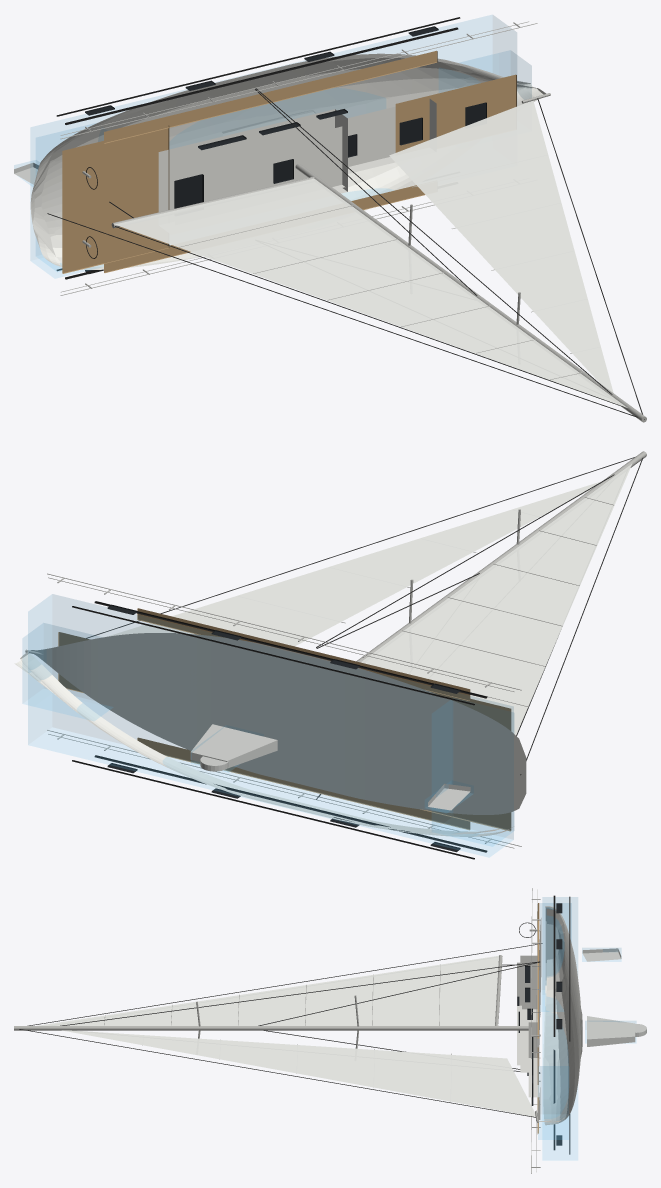
The model's file is Andryu_Yacht_ProductionReadyPrototype_v3.glb.
The picture shows the model from 3 angles, top to bottom: view 1: azimuth 30°, elevation 25°; view 2: azimuth 150°, elevation 25°; view 3: azimuth 270°, elevation 25°; orthographic projection. The views are drawn at different scales.
Visible parts, largest first — view 1: LOD0_MainSail_Grot_Animated_ClothSurface, LOD1_MainSail_Simplified, LOD0_Jib_Staksel_Genoa_Animated_ClothSurface, LOD1_Jib_Simplified, LOD1_Hull_Simplified, LOD0_Teak_Cockpit_Floor, COL_Hull_Primary_Box, LOD0_Cabin_Coachroof_Top_Slab, LOD0_Hull_Main_Closed_Surface, LOD0_Teak_Starboard_Walkway, LOD0_Cabin_Coachroof_Main, LOD0_Teak_Foredeck_Panel (+13 smaller); view 2: COL_Hull_Primary_Box, LOD0_Deck_Main_Surface, LOD0_MainSail_Grot_Animated_ClothSurface, LOD1_MainSail_Simplified, LOD0_Jib_Staksel_Genoa_Animated_ClothSurface, LOD1_Jib_Simplified, COL_Stern_Box, LOD0_Hull_Main_Closed_Surface, COL_Bow_Box, LOD0_Keel_Fin_Physics_Separate, LOD0_Teak_Starboard_Walkway, LOD0_Teak_Port_Walkway (+11 smaller); view 3: LOD0_MainSail_Grot_Animated_ClothSurface, LOD1_MainSail_Simplified, LOD0_Jib_Staksel_Genoa_Animated_ClothSurface, LOD1_Jib_Simplified, COL_Hull_Primary_Box, LOD1_Hull_Simplified, LOD0_Hull_Main_Closed_Surface, LOD0_Mast_Aluminium, COL_Bow_Box, COL_Stern_Box, LOD0_Keel_Fin_Physics_Separate, LOD0_Cabin_Coachroof_Main (+7 smaller).
Boxes of the visible parts, x1,y1,x2,y2 form: LOD0_MainSail_Grot_Animated_ClothSurface: (115,177,627,407); LOD1_MainSail_Simplified: (116,179,624,406); LOD0_Jib_Staksel_Genoa_Animated_ClothSurface: (389,100,613,392); LOD1_Jib_Simplified: (390,101,612,391); LOD1_Hull_Simplified: (30,53,532,266); LOD0_Teak_Cockpit_Floor: (62,125,169,273); COL_Hull_Primary_Box: (31,15,516,278); LOD0_Cabin_Coachroof_Top_Slab: (175,126,345,201); LOD0_Hull_Main_Closed_Surface: (31,54,545,269); LOD0_Teak_Starboard_Walkway: (104,50,437,143); LOD0_Cabin_Coachroof_Main: (158,109,347,212); LOD0_Teak_Foredeck_Panel: (395,74,516,152); COL_Hull_Primary_Box: (28,594,513,856); LOD0_Deck_Main_Surface: (31,633,526,814); LOD0_MainSail_Grot_Animated_ClothSurface: (361,463,632,735); LOD1_MainSail_Simplified: (362,464,631,734); LOD0_Jib_Staksel_Genoa_Animated_ClothSurface: (108,481,601,646); LOD1_Jib_Simplified: (173,482,599,645); COL_Stern_Box: (432,698,513,846); LOD0_Hull_Main_Closed_Surface: (20,651,512,836); COL_Bow_Box: (23,623,112,720); LOD0_Keel_Fin_Physics_Separate: (190,724,277,768); LOD0_Teak_Starboard_Walkway: (137,608,470,700); LOD0_Teak_Port_Walkway: (137,737,470,830); LOD0_MainSail_Grot_Animated_ClothSurface: (37,955,498,1025); LOD1_MainSail_Simplified: (41,956,498,1025); LOD0_Jib_Staksel_Genoa_Animated_ClothSurface: (62,1030,535,1116); LOD1_Jib_Simplified: (69,1031,534,1116); COL_Hull_Primary_Box: (543,897,577,1159); LOD1_Hull_Simplified: (544,908,581,1125); LOD0_Hull_Main_Closed_Surface: (538,906,582,1124); LOD0_Mast_Aluminium: (14,1026,528,1030); COL_Bow_Box: (538,1066,568,1139); COL_Stern_Box: (540,903,571,1011); LOD0_Keel_Fin_Physics_Separate: (587,1016,635,1046); LOD0_Cabin_Coachroof_Main: (520,955,537,1072).
Size of the model in its own units: 14 by 4.35 by 20.77.
